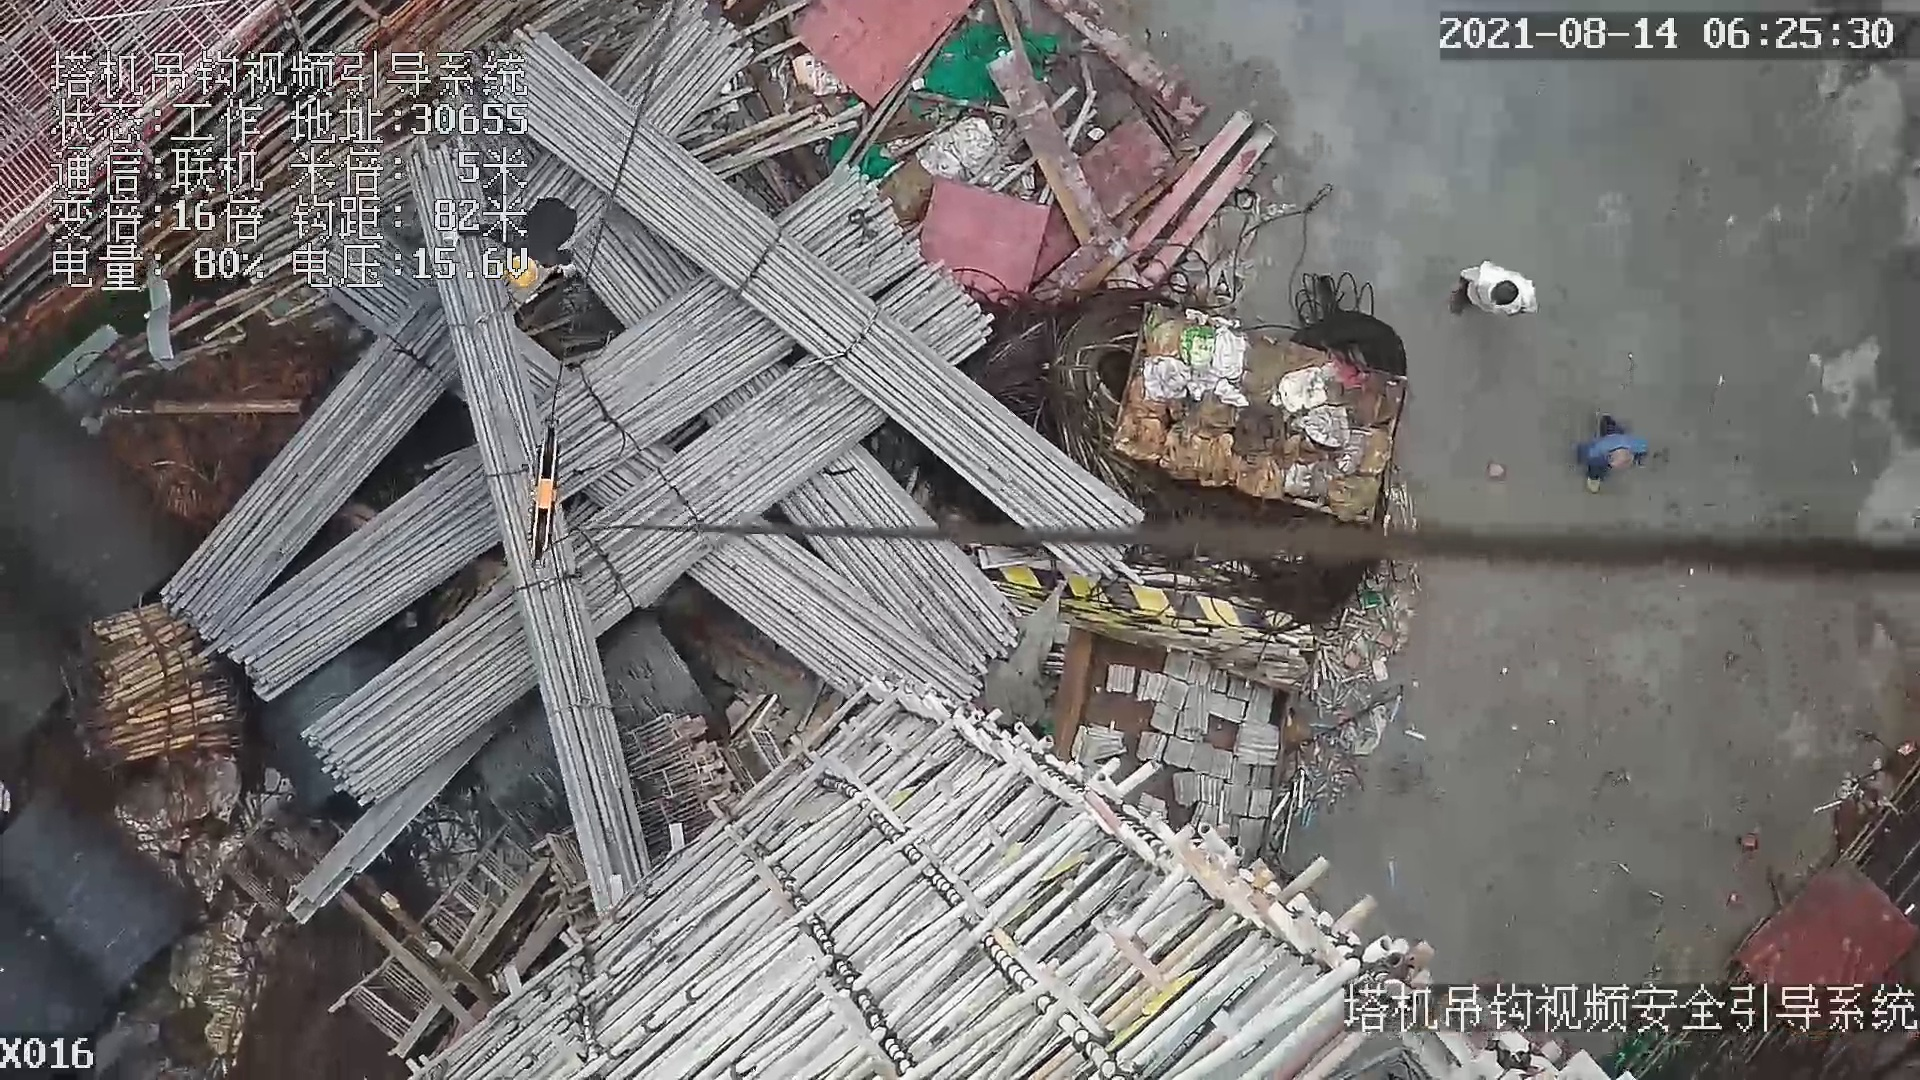helmet: (507, 253, 540, 289)
hook: (517, 412, 568, 578)
person: (444, 203, 574, 290), (1447, 259, 1542, 335), (1570, 406, 1645, 497)
